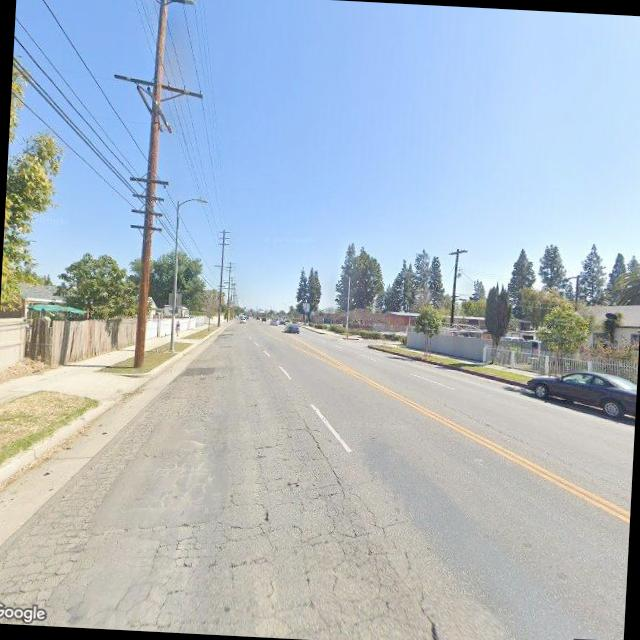crack: (0, 407, 437, 640)
pothole: (436, 395, 568, 462)
